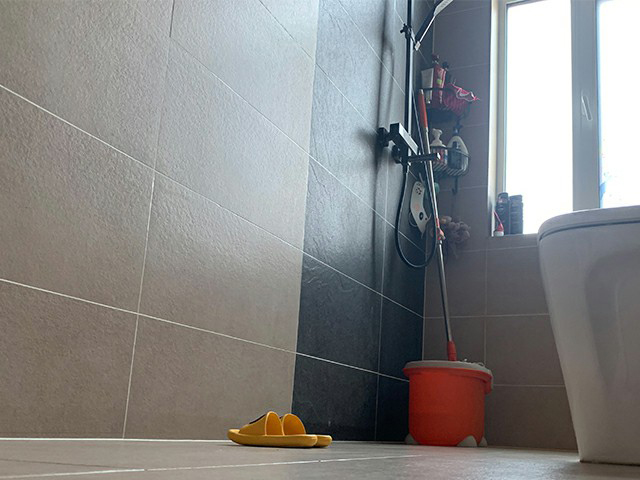closestool: (536, 204, 640, 466)
slippers: (227, 406, 314, 449), (281, 413, 334, 448)
